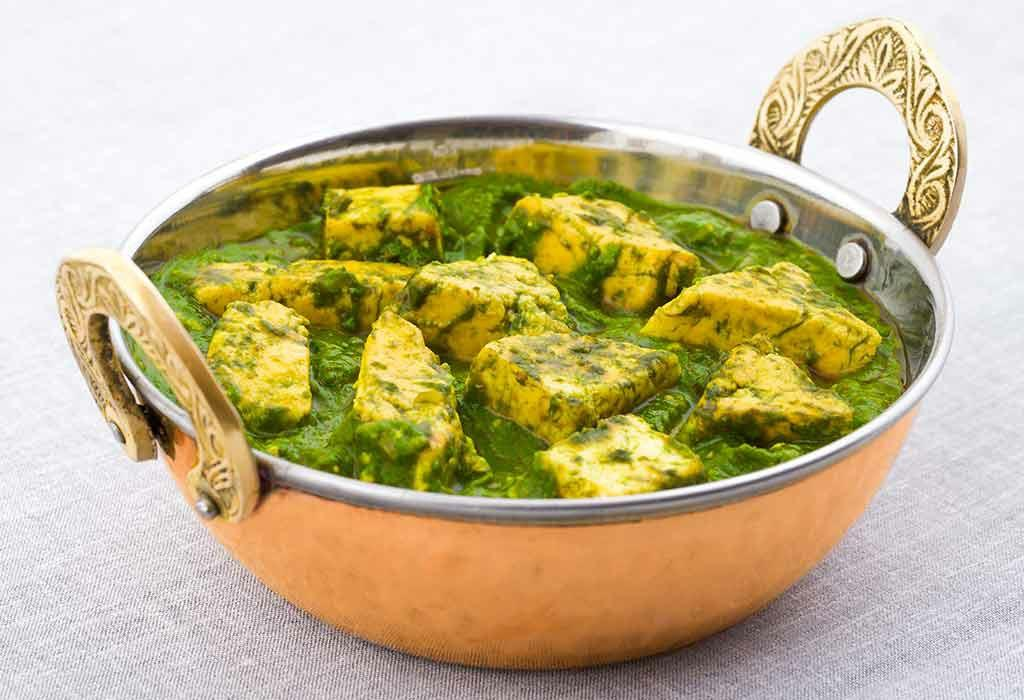PalakPaneer: (135, 158, 903, 497)
